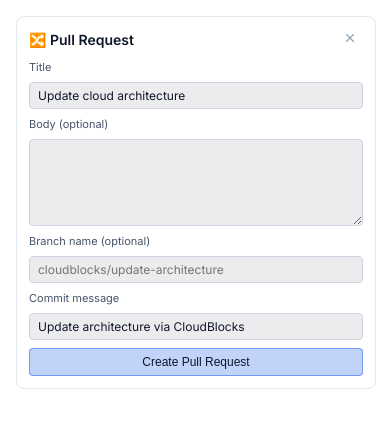
Scenario: GitHubPR › submits PR and shows result URL
What coordinates should you click on to do the following:
click the button "Create Pull Request"
I would click on:
 (196, 362)
Its box is [29, 348, 363, 376].
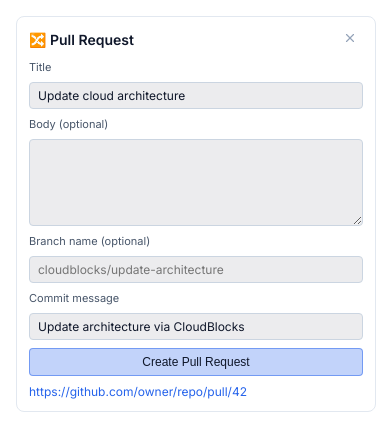
Check: the link "https://github.com/owner/repo/pull/42" is shown, box [29, 384, 247, 399]
